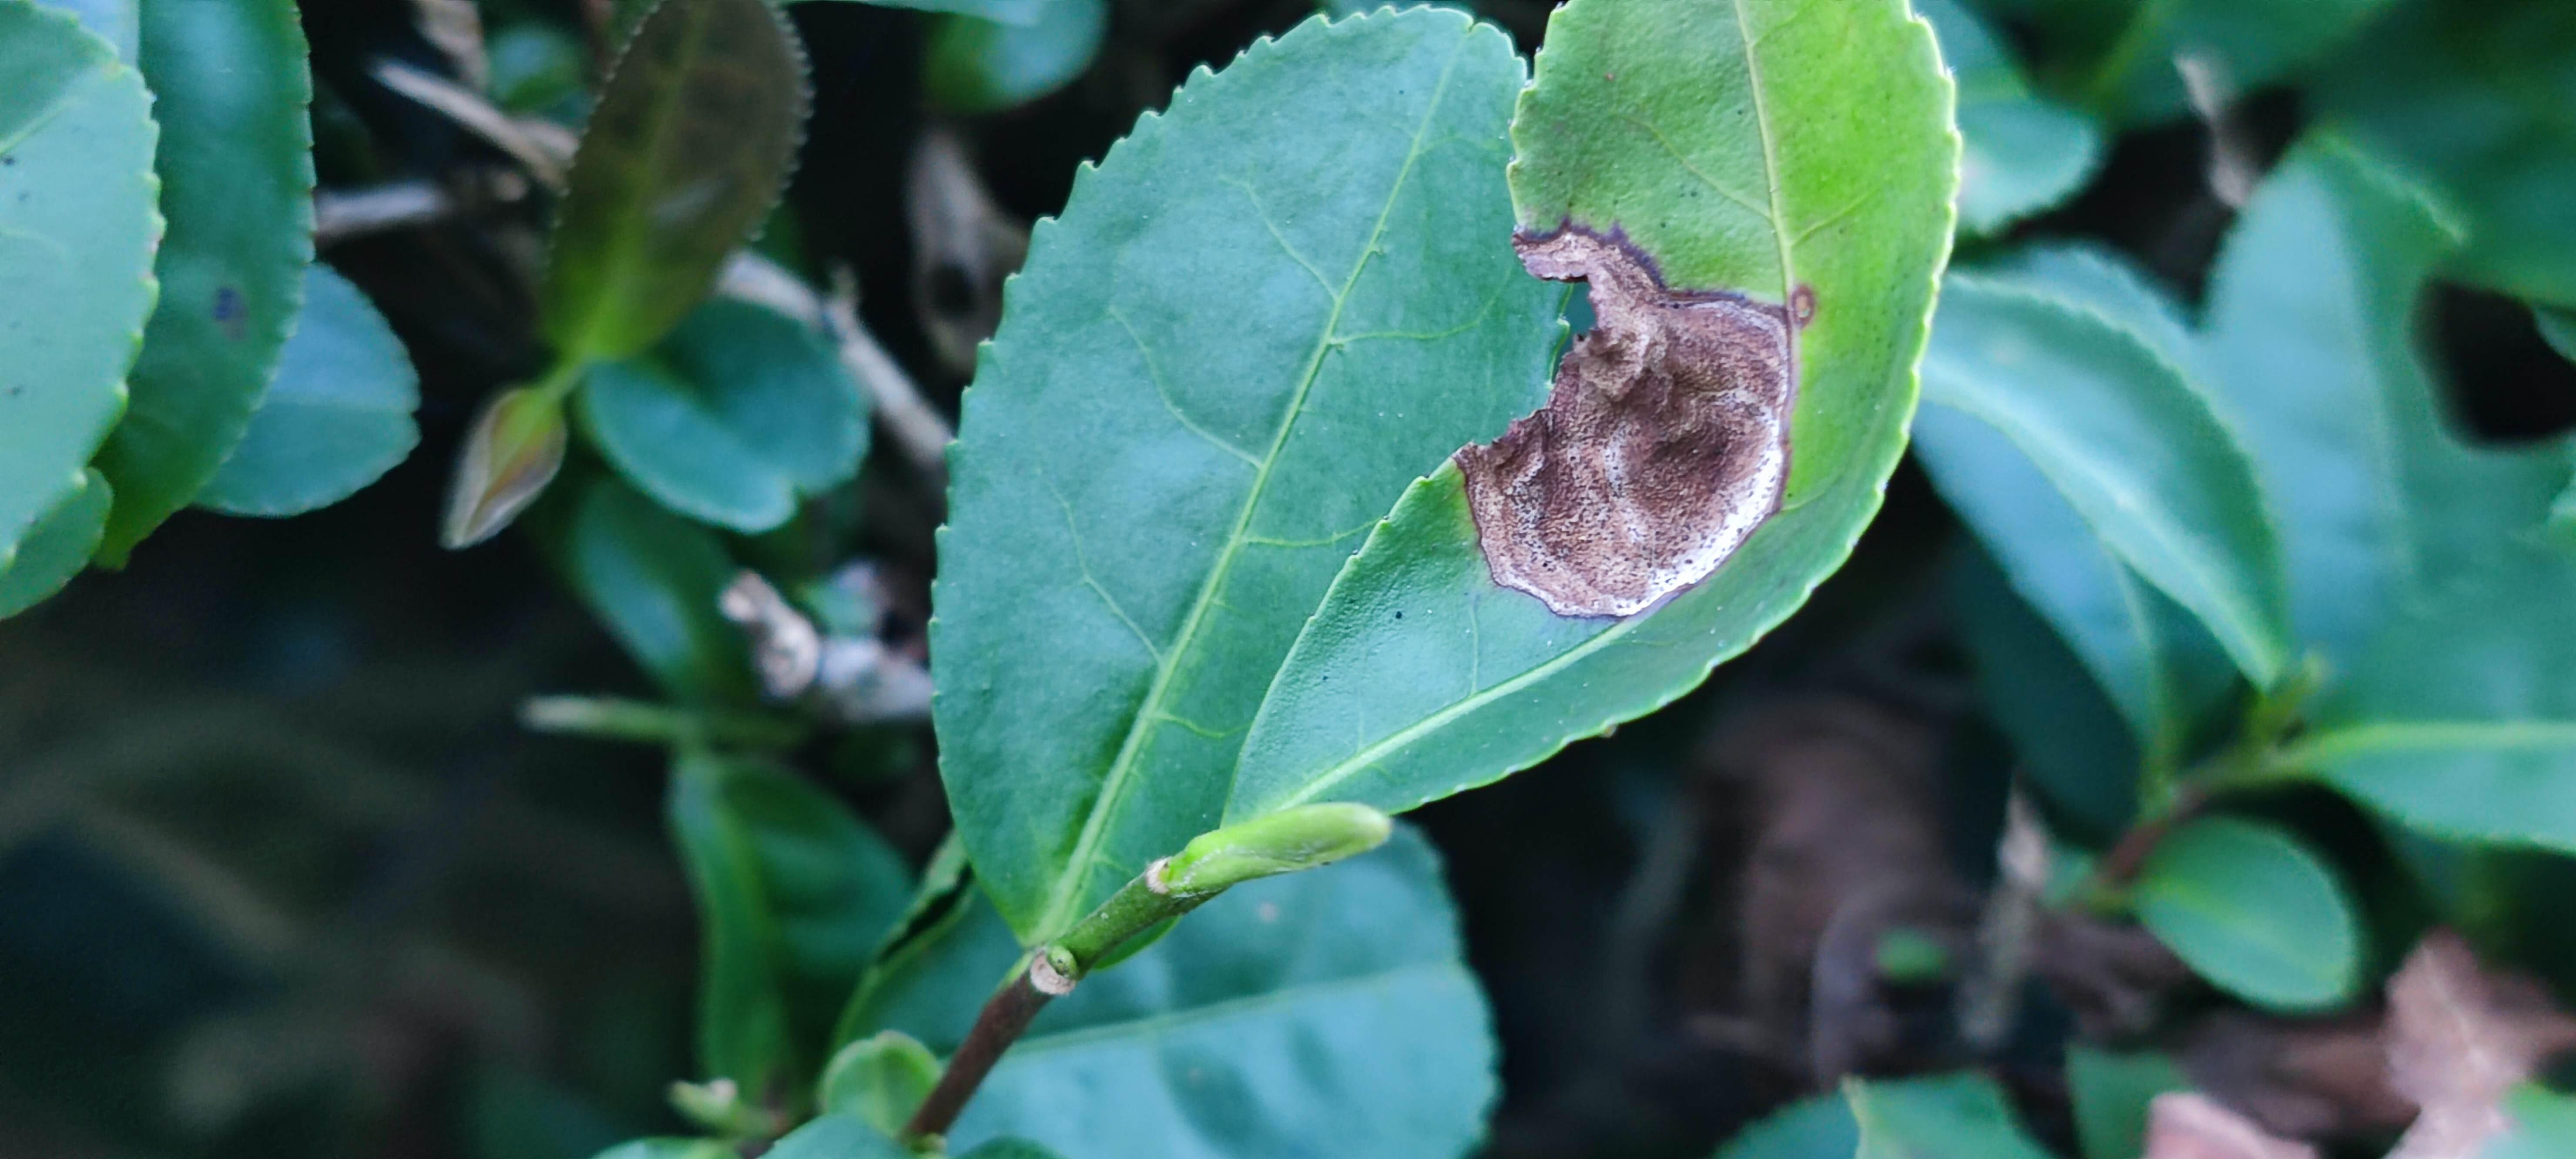chihuo_high: (2196, 123, 2576, 691)
tanju_high: (1222, 2, 1968, 819)
tanju_low: (536, 0, 815, 374), (440, 386, 572, 547)
